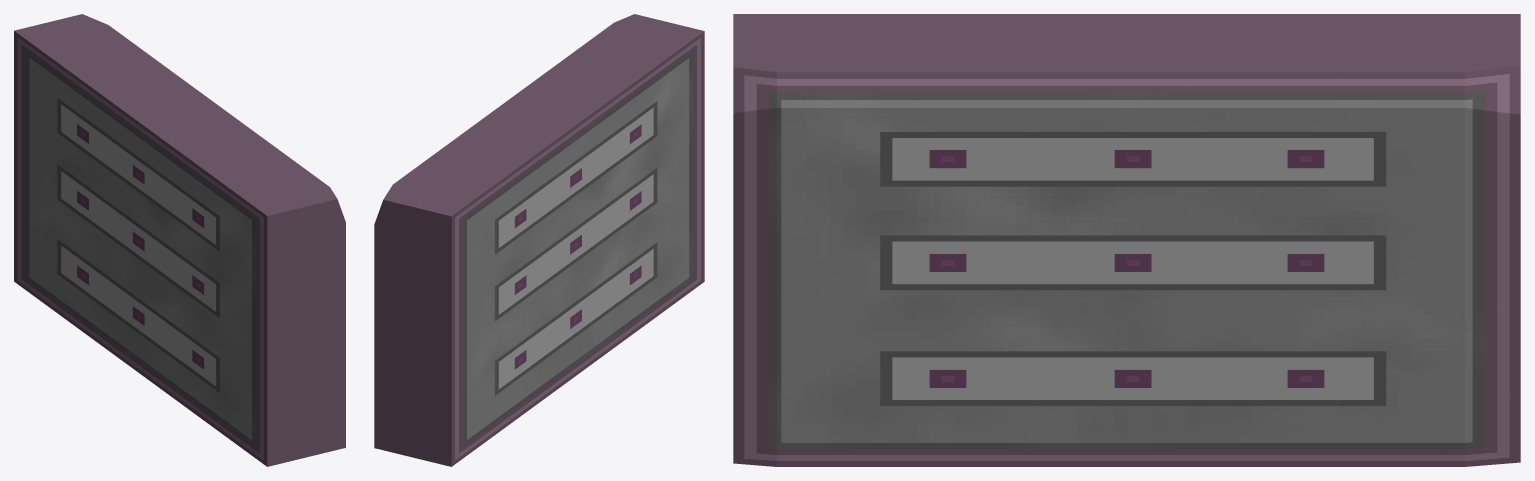
File: cabinit.glb
The picture shows the model from 3 angles, left to right: view 1: azimuth 30°, elevation 25°; view 2: azimuth 150°, elevation 25°; view 3: azimuth 270°, elevation 25°; orthographic projection. The views are drawn at different scales.
Parts seen in each view (by area): view 1: Cube; view 2: Cube; view 3: Cube.
Boxes of the visible parts, x1,y1,x2,y2 form: Cube: (14, 14, 345, 466); Cube: (374, 14, 704, 466); Cube: (733, 14, 1520, 466).
Bounding box in the file's own units: 2 × 5.76 × 10.54.
Materials: 1 (1 with a texture image).
